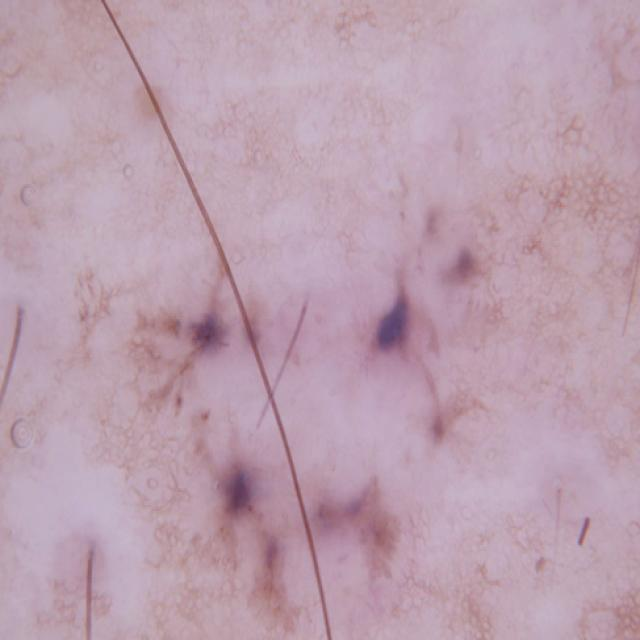Carcinoma: (102, 196, 581, 599)
